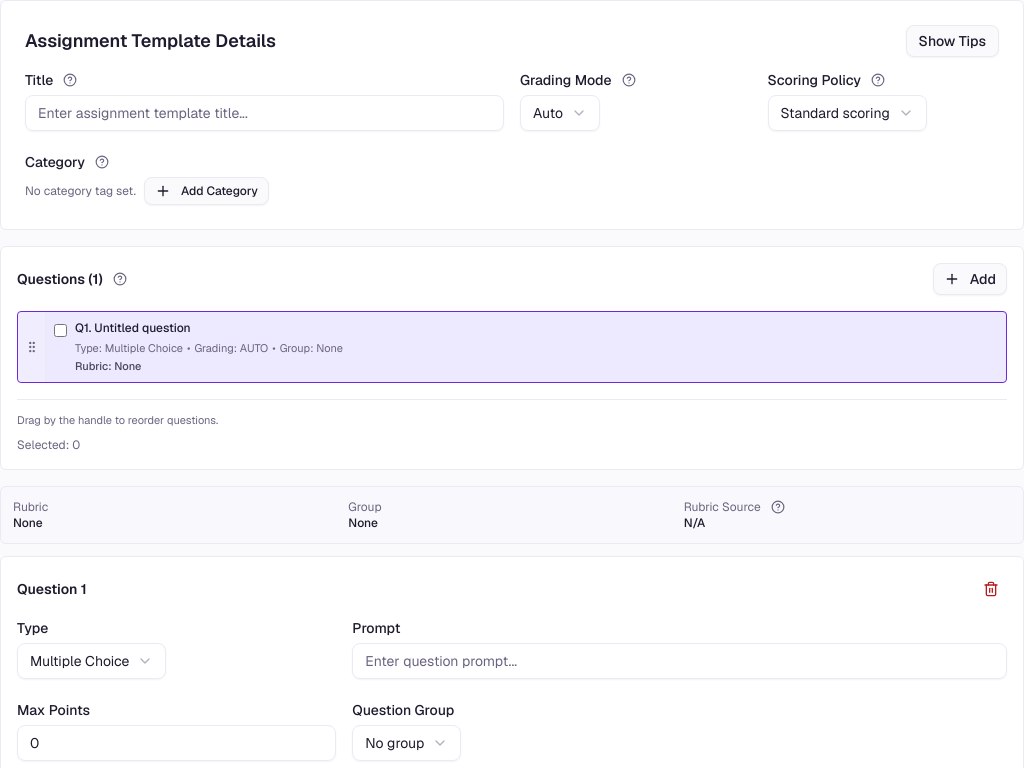
Test case: AssignmentTemplateBuilderForm › toggles question checkbox selection
// Add second question
Click the button "Add" at (970, 279), box x1=933 y1=263 x2=1007 y2=295
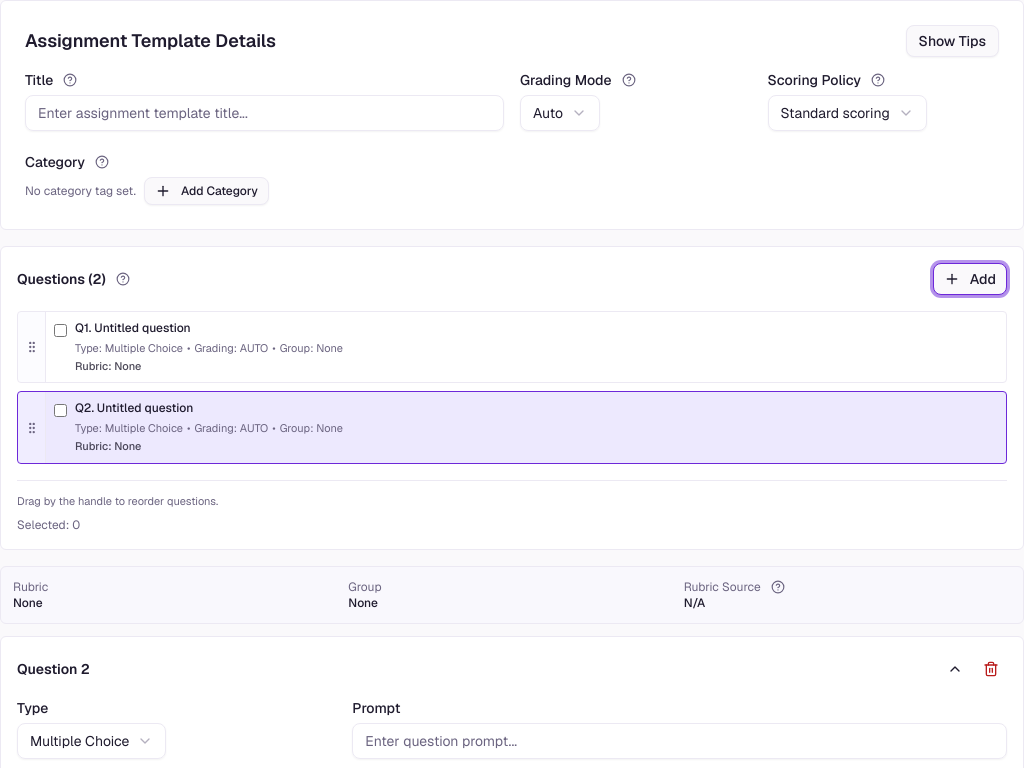
Now the heading "Questions (2)" is shown, box x1=17 y1=269 x2=106 y2=289
// Click the first question checkbox
Click the 1st checkbox at (60, 330), box x1=54 y1=324 x2=67 y2=337
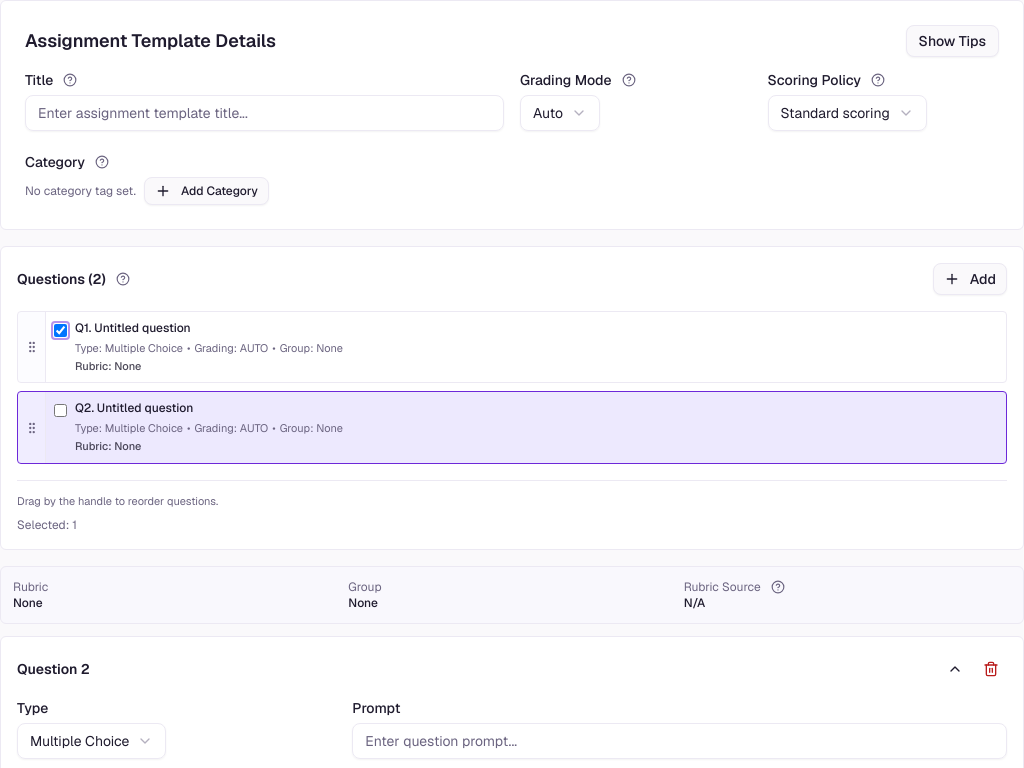
Now the text "Selected: 1" is shown, box x1=17 y1=517 x2=77 y2=533
// Click second question checkbox
Click the 2nd checkbox at (60, 411), box x1=54 y1=404 x2=67 y2=417
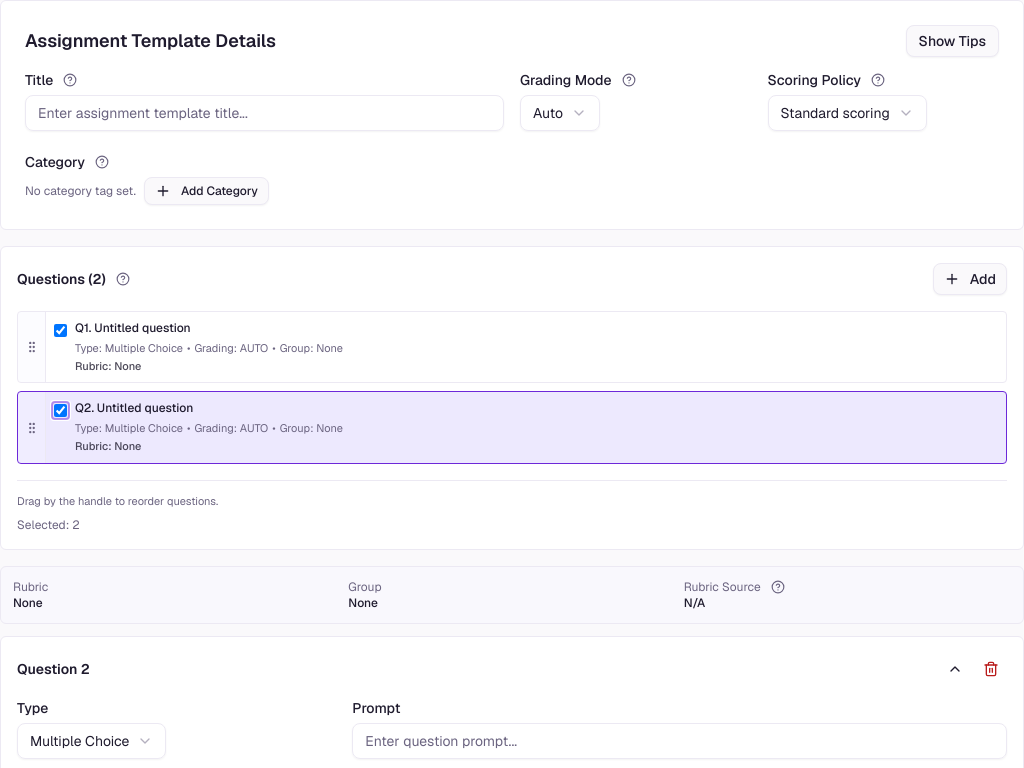
Now the text "Selected: 2" is shown, box x1=17 y1=517 x2=80 y2=533
// Uncheck first
Click the 1st checkbox at (60, 330), box x1=54 y1=324 x2=67 y2=337
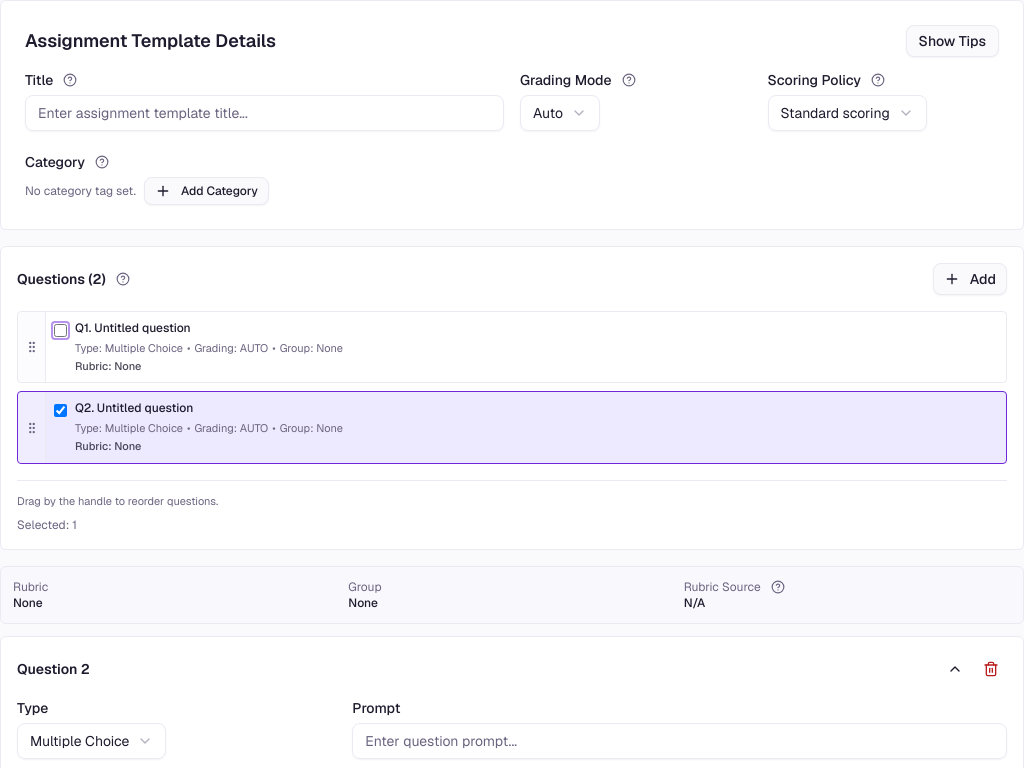
Now the text "Selected: 1" is shown, box x1=17 y1=517 x2=77 y2=533
